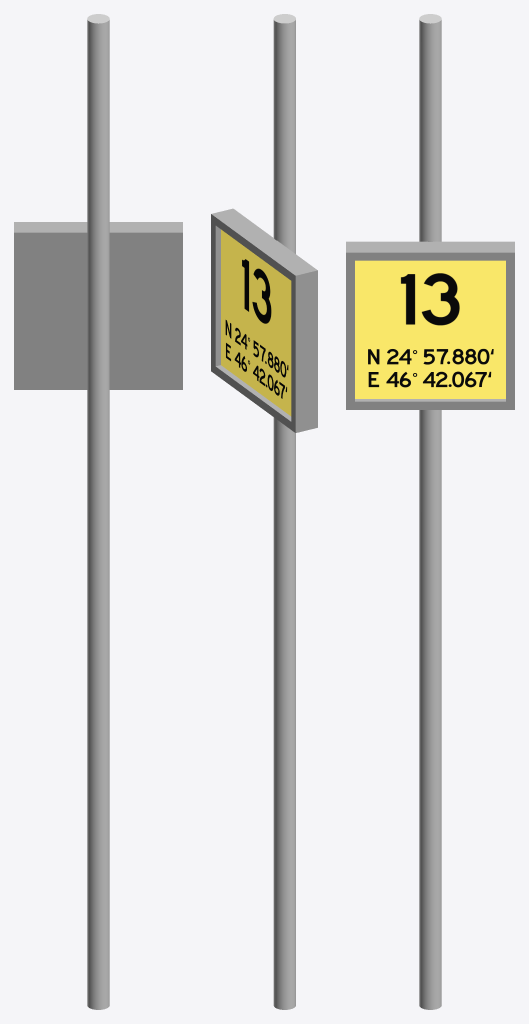
Rendered from oerk_gate_si_13.gltf.
The picture shows the model from 3 angles, left to right: view 1: azimuth 90°, elevation 25°; view 2: azimuth 210°, elevation 25°; view 3: azimuth 270°, elevation 25°; orthographic projection.
Parts seen in each view (by area): view 1: Cube.012, Cylinder.001; view 2: Cylinder.001, Cube.012, Plane.016; view 3: Cube.012, Cylinder.001, Plane.016, Plane.023.
Boxes of the visible parts, x1,y1,x2,y2 form: Cube.012: (14,222,182,389); Cylinder.001: (87,14,109,1009); Cylinder.001: (273,14,295,1009); Cube.012: (211,208,317,432); Plane.016: (252,268,271,323); Cube.012: (346,241,514,409); Cylinder.001: (419,14,441,1009); Plane.016: (422,273,459,325); Plane.023: (401,274,414,324).
Bounding box in the file's own units: 0.3922 × 8.97 × 1.39.
Materials: 3 (1 with a texture image).
